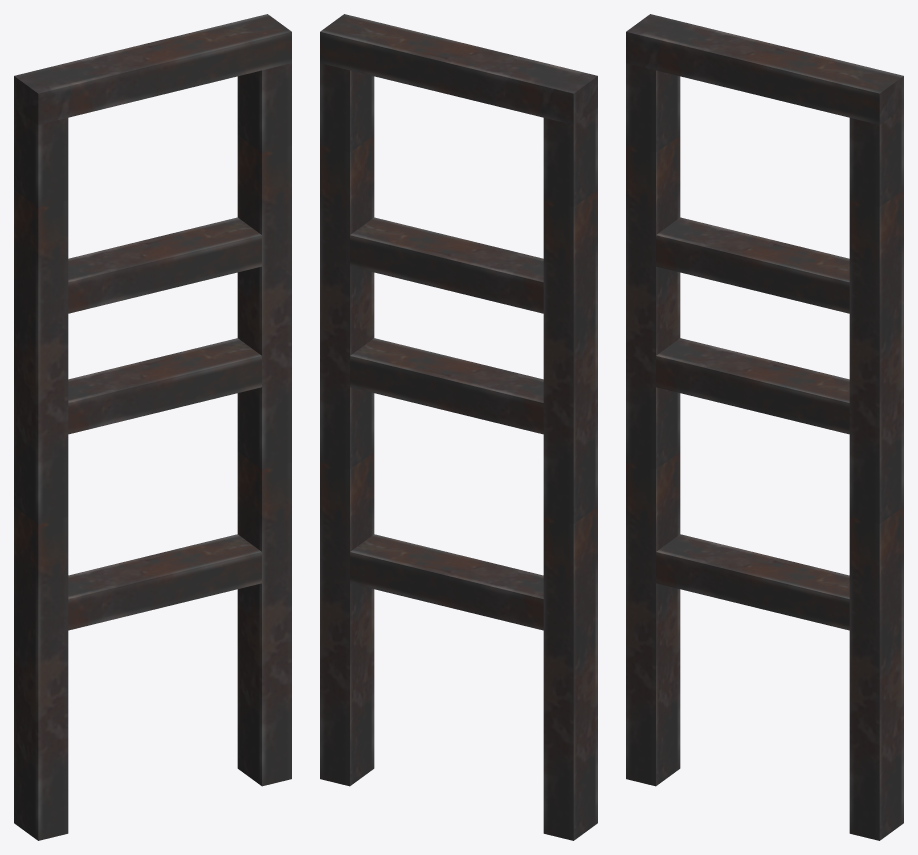
Rendered from pipe02_support02.fbx.
3 views of the same model, side by side, from view 1: azimuth 30°, elevation 25°; view 2: azimuth 150°, elevation 25°; view 3: azimuth 330°, elevation 25° (orthographic).
Visible parts, largest first — view 1: pipe02_support02; view 2: pipe02_support02; view 3: pipe02_support02.
Part boxes in pixels (x1,y1,x2,y2): pipe02_support02: (14, 14, 291, 840); pipe02_support02: (320, 14, 597, 840); pipe02_support02: (626, 14, 903, 840).
Bounding box in the file's own units: 41.9 × 118 × 6.95.
